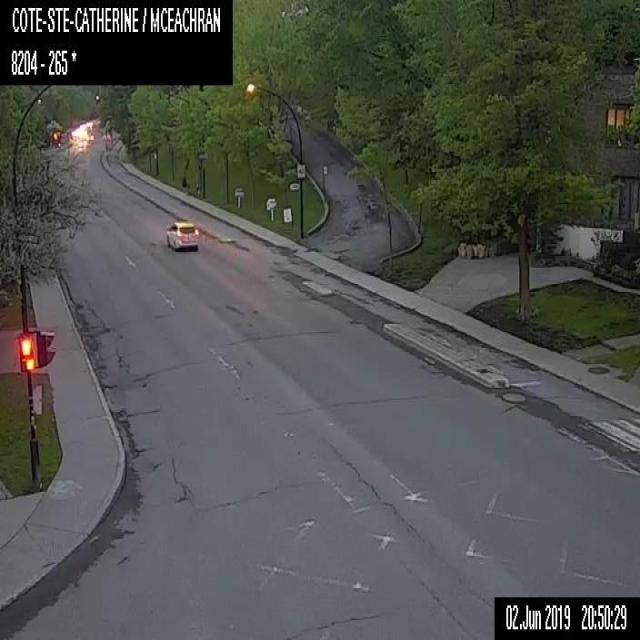vehicle: (166, 218, 198, 250), (86, 131, 94, 139)
